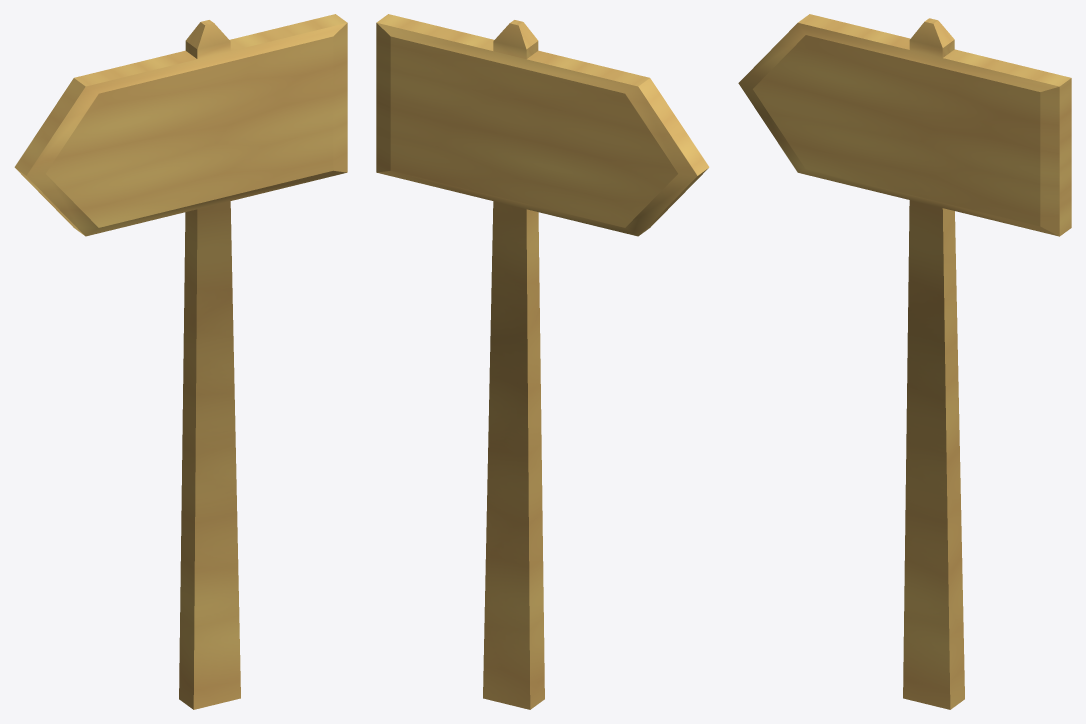
File: sign.fbx
3 renders of one model, left to right at view 1: azimuth 30°, elevation 25°; view 2: azimuth 150°, elevation 25°; view 3: azimuth 330°, elevation 25°, orthographic.
Parts seen in each view (by area): view 1: Cube; view 2: Cube; view 3: Cube.
Boxes of the visible parts, x1,y1,x2,y2 form: Cube: [14, 14, 347, 709]; Cube: [376, 14, 709, 709]; Cube: [738, 14, 1071, 709].
Bounding box in the file's own units: 166 × 335 × 16.98.
